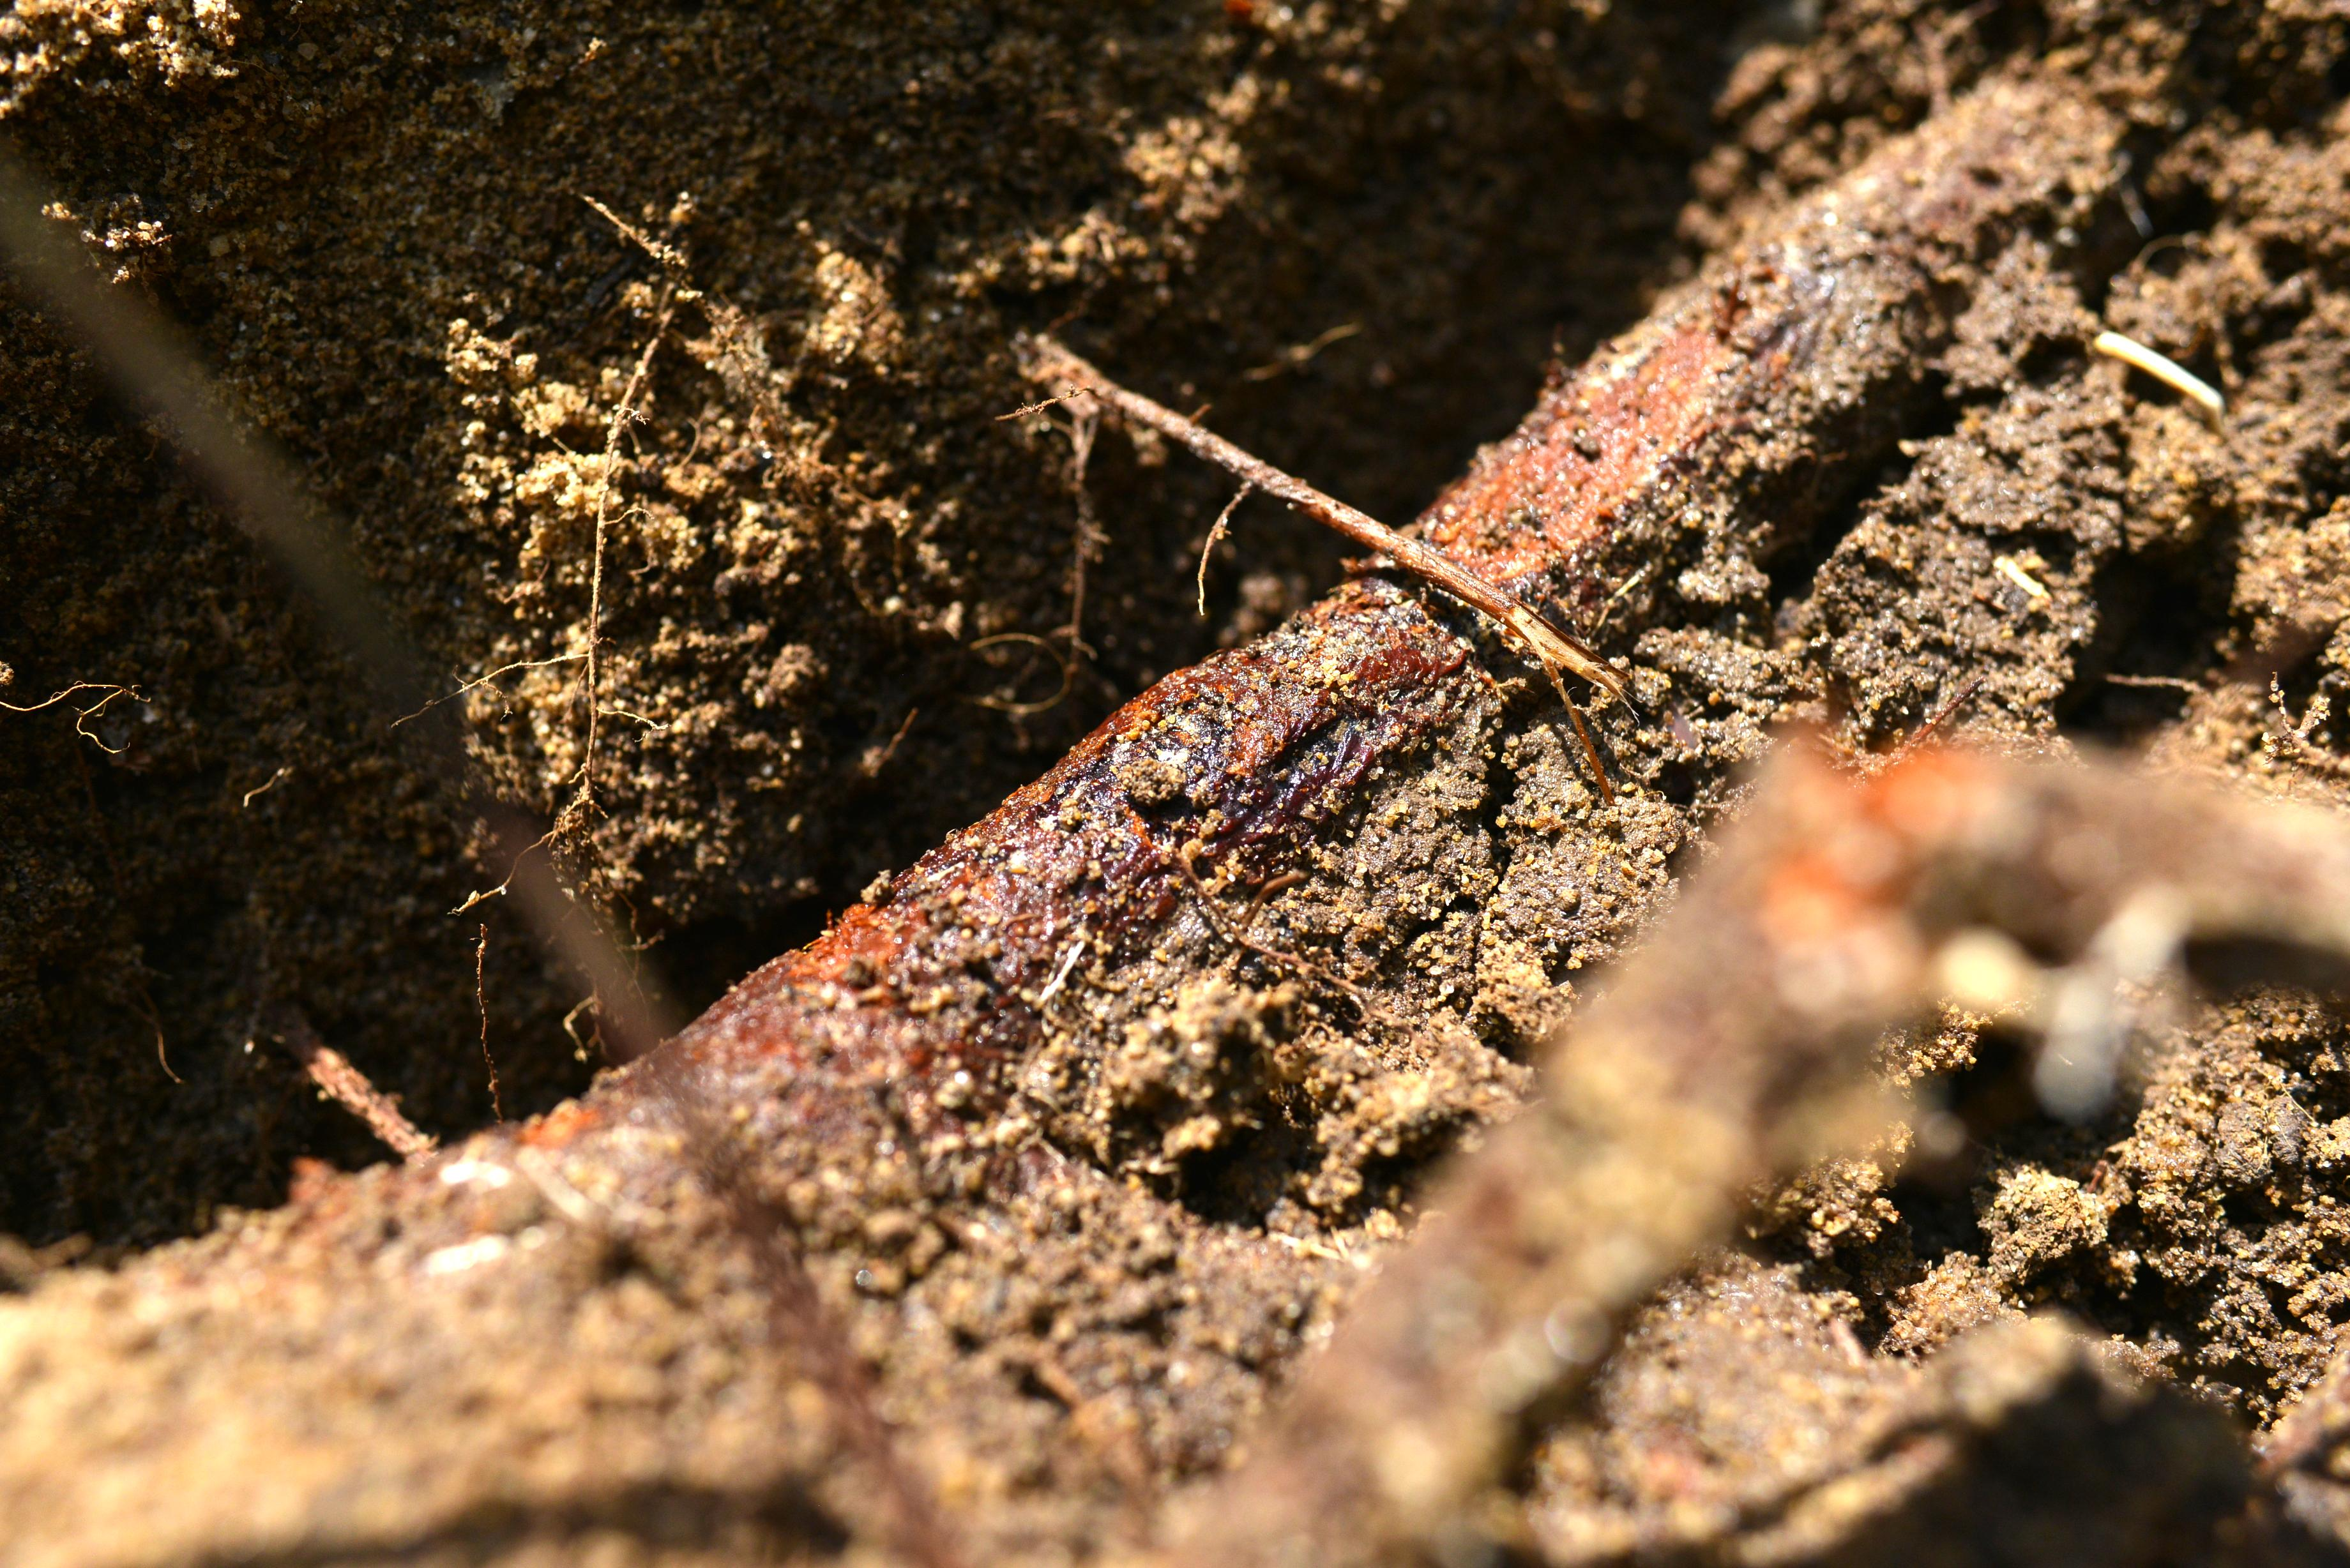Red Root Rot - Secretion: (304, 198, 1918, 1368)
